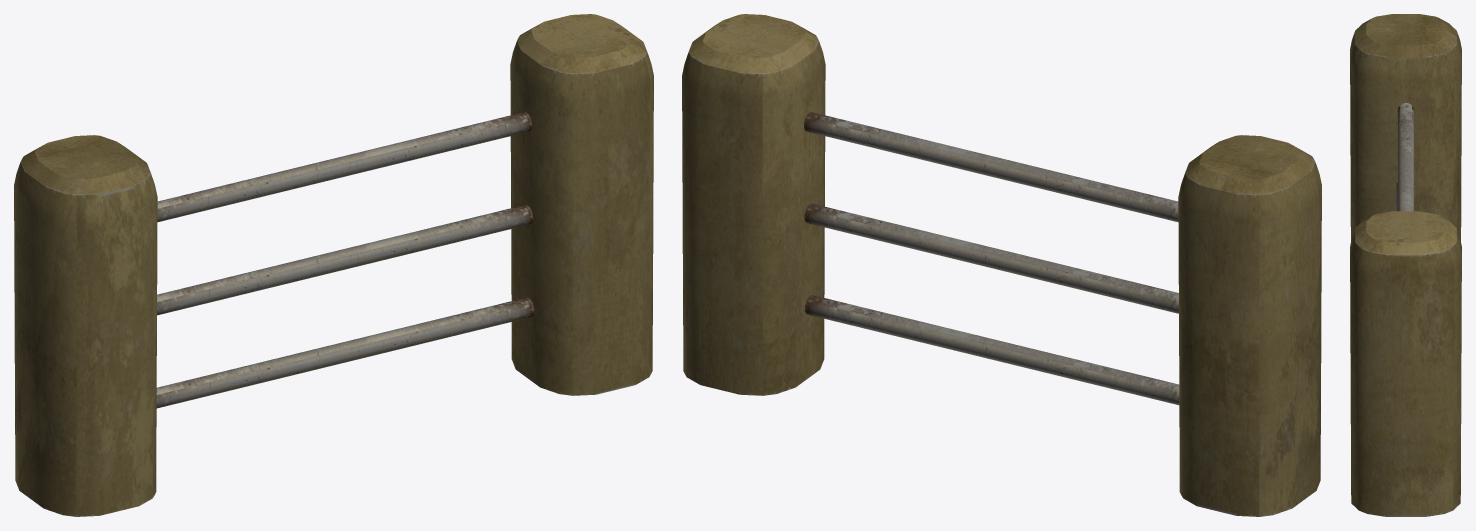
Rendered from Fence Straight concrete.fbx.
3 renders of one model, left to right at view 1: azimuth 30°, elevation 25°; view 2: azimuth 150°, elevation 25°; view 3: azimuth 270°, elevation 25°, orthographic. The views are drawn at different scales.
Parts seen in each view (by area): view 1: Cerca de concreto reta; view 2: Cerca de concreto reta; view 3: Cerca de concreto reta.
Part boxes in pixels (x1=…): Cerca de concreto reta: x1=14, y1=14, x2=653, y2=516; Cerca de concreto reta: x1=682, y1=14, x2=1321, y2=516; Cerca de concreto reta: x1=1350, y1=14, x2=1461, y2=516.
Bounding box in the file's own units: 158 × 81.95 × 30.95.
